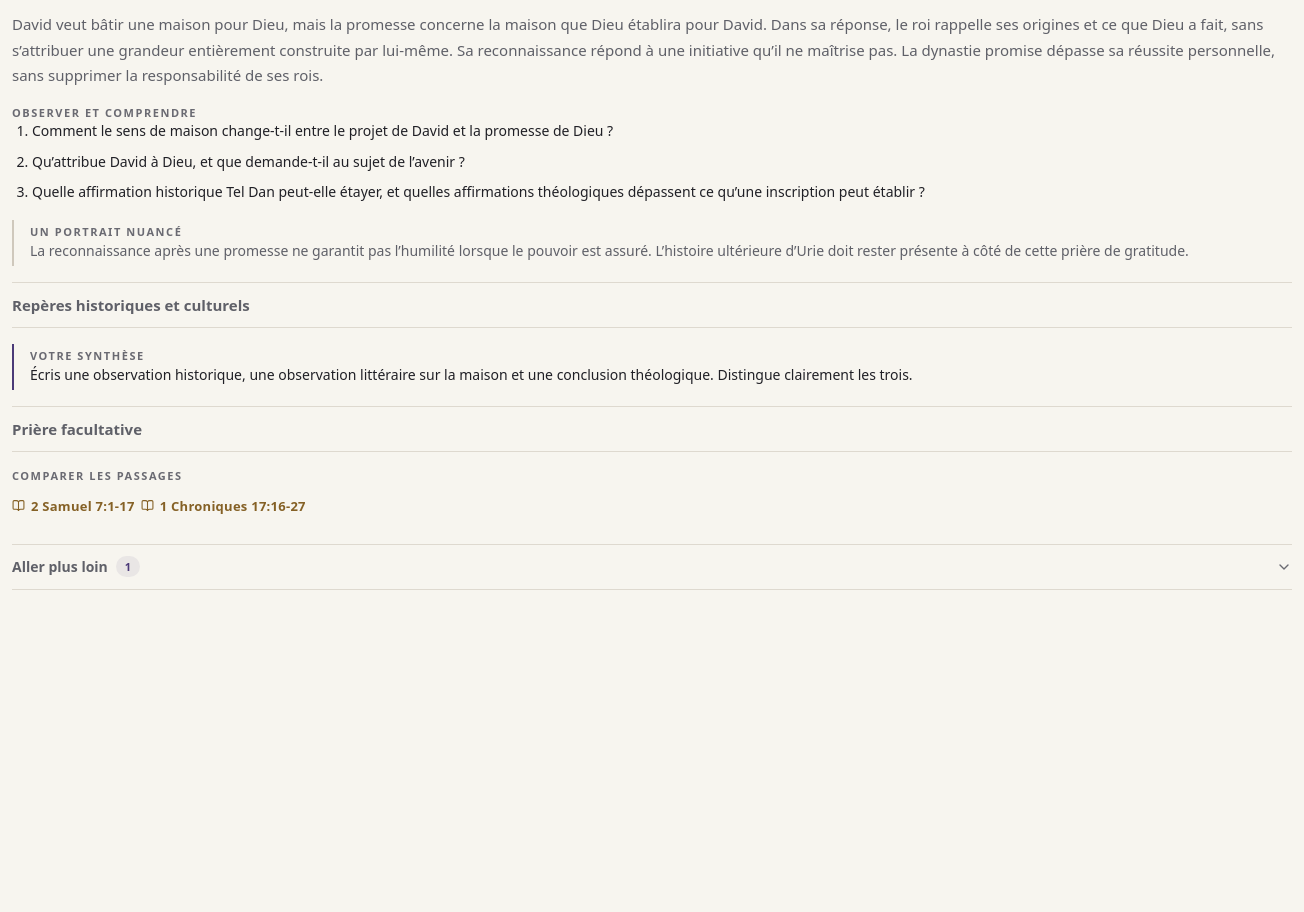
it: a study-first day on the shared plan surfaces › reuses the existing external-link shelf when approved resources are supplied
Click the button "Aller plus loin 1": (60, 566) x1=12 y1=545 x2=1292 y2=589
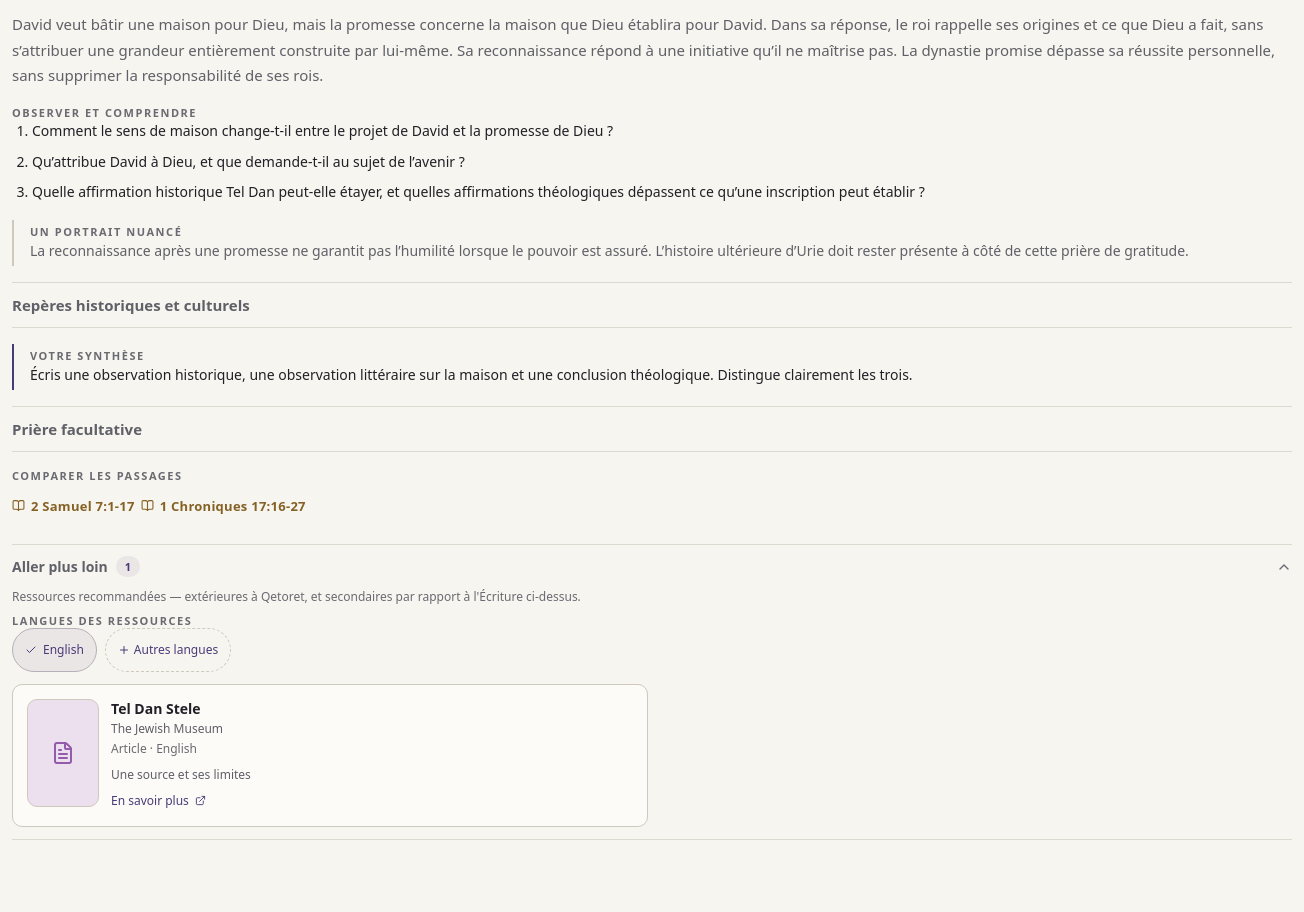
Now the text "Une source et ses limites" is shown, box x1=111 y1=766 x2=251 y2=783
